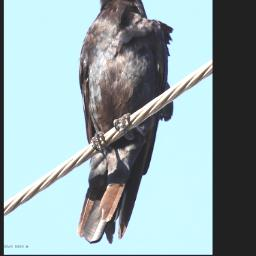Crow: (75, 0, 174, 245)
